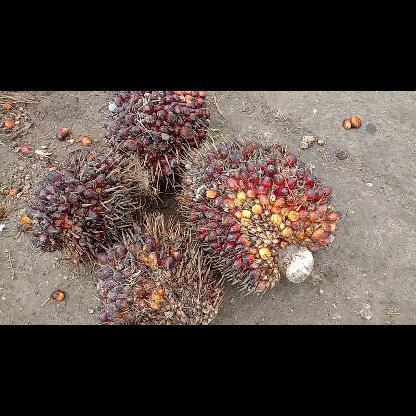TBS masak: (174, 132, 342, 296), (26, 147, 154, 263), (96, 212, 224, 324), (102, 91, 210, 189)
